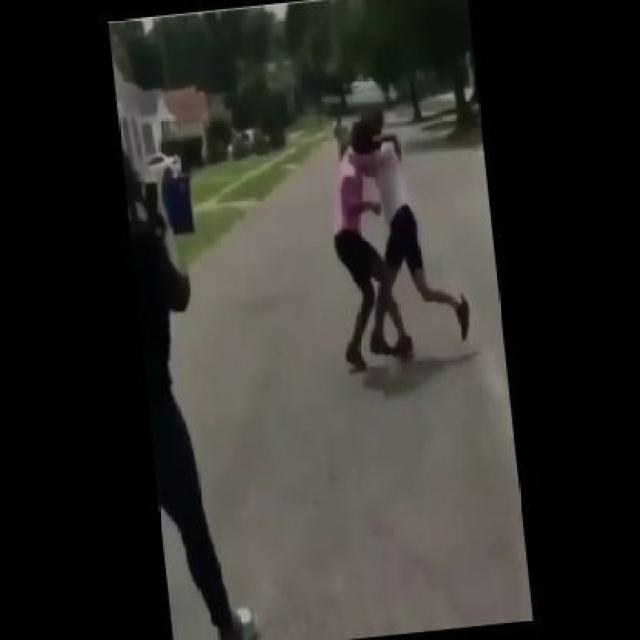fight: (297, 89, 483, 389)
